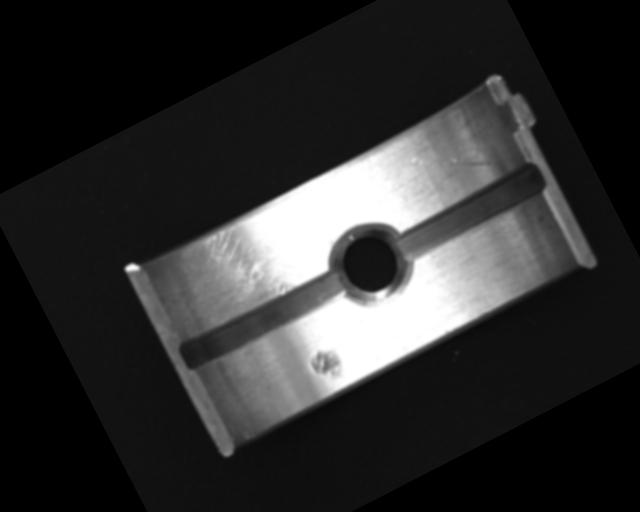bruise: (306, 343, 348, 389)
gap: (175, 260, 354, 375), (393, 161, 550, 264)
hole: (319, 209, 421, 316)
nick: (406, 122, 498, 200)
scratch: (148, 187, 332, 341)
